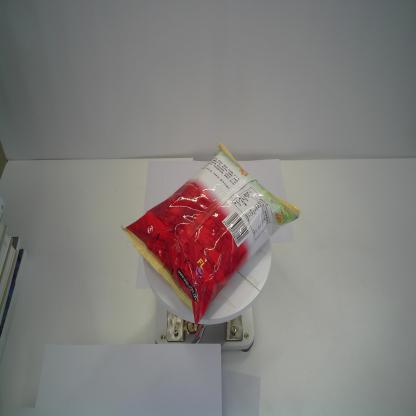Puffed Food: (120, 143, 302, 333)
